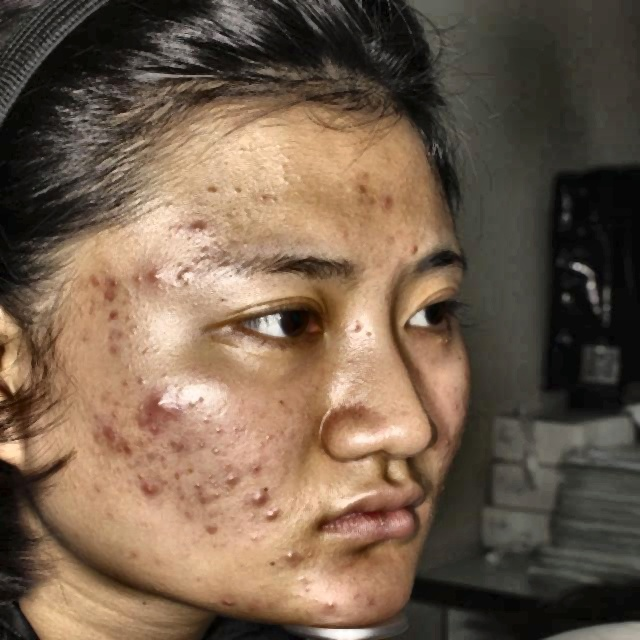papule: (184, 212, 226, 245), (131, 264, 171, 290), (98, 306, 134, 333), (136, 471, 170, 499), (216, 586, 251, 612), (81, 270, 126, 290), (144, 392, 177, 417), (82, 419, 112, 446), (135, 411, 166, 437), (278, 539, 304, 566), (260, 505, 289, 526), (317, 588, 344, 610), (348, 176, 371, 201), (171, 265, 197, 286), (90, 290, 124, 306), (117, 437, 145, 455), (248, 489, 278, 505), (221, 466, 245, 486), (199, 486, 215, 514), (205, 521, 227, 540), (378, 192, 392, 214)
